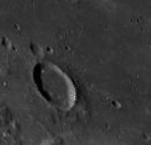crater: (22, 58, 95, 132), (102, 87, 131, 121)
